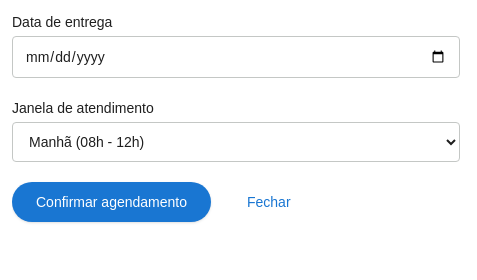
Test case: SchedulingForm › exibe o erro quando a API rejeita o agendamento
In the date field labelled "Data de entrega": (236, 57) left=12, top=36, right=460, bottom=78, type "2026-08-01"
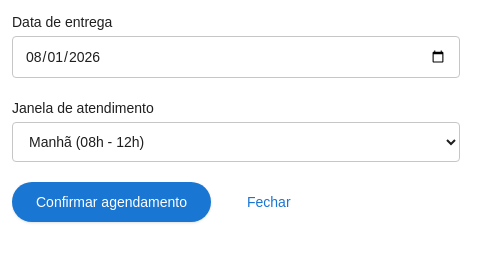
Click the button "Confirmar agendamento": (112, 202) left=12, top=182, right=211, bottom=222
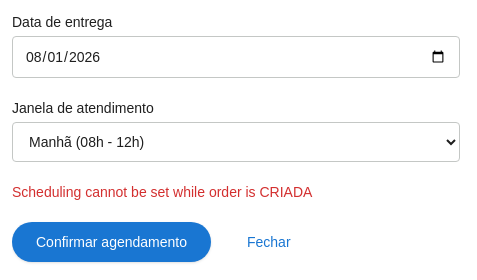
Expected: the text "Scheduling cannot be set while order is CRIADA" is shown, left=12, top=184, right=312, bottom=200
